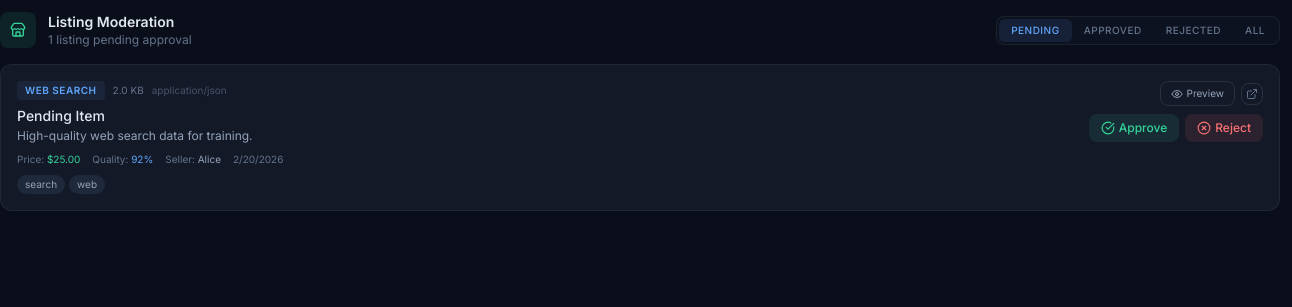
Test: ListingModeration › shows empty state for non-pending tab when filter has no matches
The image size is (1292, 307).
Click the button "approved" at (1113, 30), box left=1072, top=18, right=1154, bottom=42
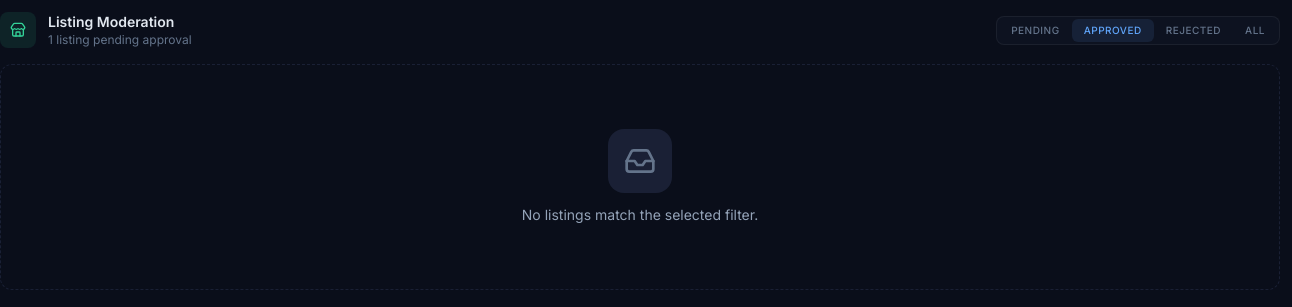
Check: the text "No listings match the selected filter." is shown, box left=522, top=205, right=758, bottom=225
